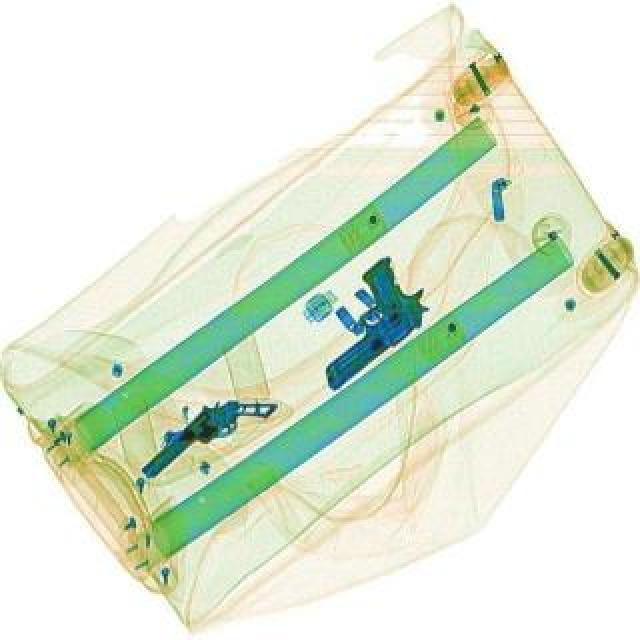gun: (282, 254, 446, 394), (142, 378, 282, 508)
